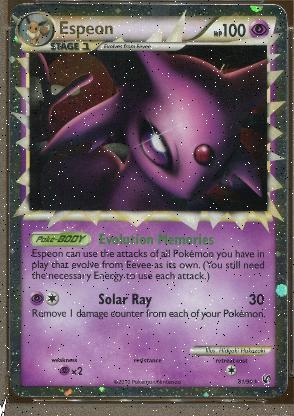Card: (9, 1, 287, 399)
